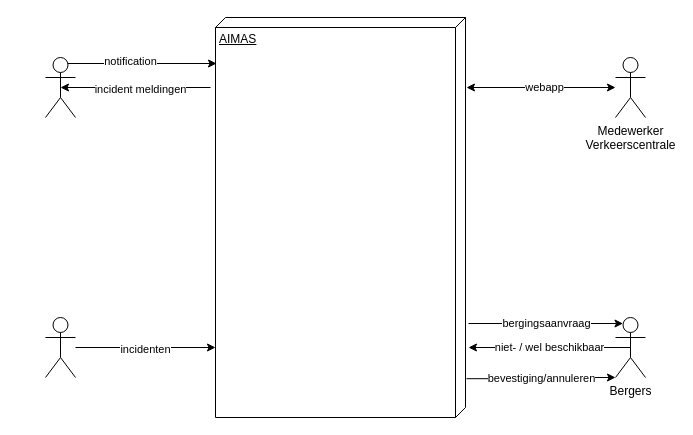
Some shapes in this 693 by 435 pixel diagram are drawn without their labels. The shapes that lost their labels are listed below. From the top down, each one's centre as x and y in pixels, then its label:
point 60,87: O.a. Flitsmeister
point 60,347: TomTom e.a.
